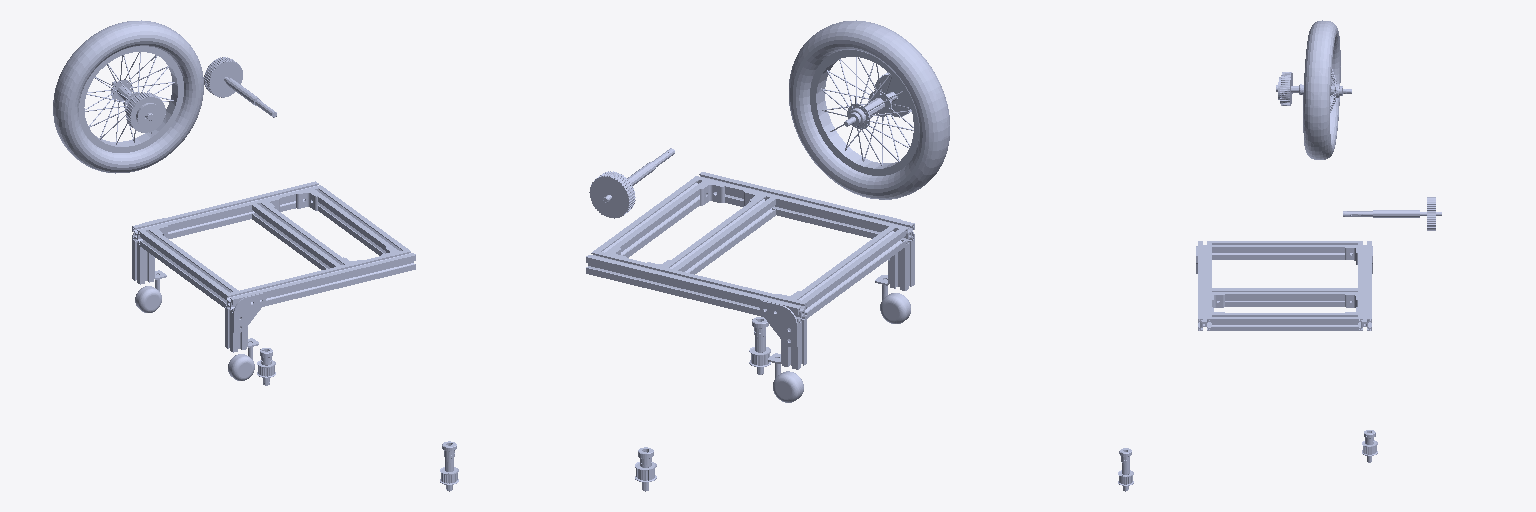
The robot description file, URDF, robot "ROS_Module_Assembly_v4":
<?xml version="1.0" encoding="utf-8"?>
<!-- This URDF was automatically created by SolidWorks to URDF Exporter! Originally created by [author] ([email redacted]) 
     Commit Version: 1.6.0-4-g7f85cfe  Build Version: 1.6.7995.38578
     For more information, please see http://wiki.ros.org/sw_urdf_exporter -->
<robot
  name="ROS_Module_Assembly_v4">
  <link
    name="base_link">
    <inertial>
      <origin
        xyz="-0.031724 -0.12886 0.039095"
        rpy="0 0 0" />
      <mass
        value="2.1961" />
      <inertia
        ixx="0.0063697"
        ixy="-3.3879E-05"
        ixz="-1.3091E-07"
        iyy="0.0035478"
        iyz="1.1651E-06"
        izz="0.009033" />
    </inertial>
    <visual>
      <origin
        xyz="0 0 0"
        rpy="0 0 0" />
      <geometry>
        <mesh
          filename="package://ROS_Module_Assembly_v4/meshes/base_link.STL" />
      </geometry>
      <material
        name="">
        <color
          rgba="0.79216 0.81961 0.93333 1" />
      </material>
    </visual>
    <collision>
      <origin
        xyz="0 0 0"
        rpy="0 0 0" />
      <geometry>
        <mesh
          filename="package://ROS_Module_Assembly_v4/meshes/base_link.STL" />
      </geometry>
    </collision>
  </link>
  <link
    name="input_transl_motor">
    <inertial>
      <origin
        xyz="-1.865E-05 0.047153 -6.6546E-05"
        rpy="0 0 0" />
      <mass
        value="0.032255" />
      <inertia
        ixx="1.5951E-05"
        ixy="1.8513E-09"
        ixz="3.575E-09"
        iyy="2.7304E-06"
        iyz="6.6055E-09"
        izz="1.5963E-05" />
    </inertial>
    <visual>
      <origin
        xyz="0 0 0"
        rpy="0 0 0" />
      <geometry>
        <mesh
          filename="package://ROS_Module_Assembly_v4/meshes/input_transl_motor.STL" />
      </geometry>
      <material
        name="">
        <color
          rgba="0.79216 0.81961 0.93333 1" />
      </material>
    </visual>
    <collision>
      <origin
        xyz="0 0 0"
        rpy="0 0 0" />
      <geometry>
        <mesh
          filename="package://ROS_Module_Assembly_v4/meshes/input_transl_motor.STL" />
      </geometry>
    </collision>
  </link>
  <joint
    name="base_to_input_transport"
    type="continuous">
    <origin
      xyz="-0.07615 -0.16897 0.008"
      rpy="-1.5708 0 -1.2874" />
    <parent
      link="base_link" />
    <child
      link="input_transl_motor" />
    <axis
      xyz="0 1 0" />
  </joint>
  <link
    name="vert_bevel_shaft_transl">
    <inertial>
      <origin
        xyz="1.2062E-06 2.1092E-05 -0.034965"
        rpy="0 0 0" />
      <mass
        value="0.11927" />
      <inertia
        ixx="0.00012322"
        ixy="6.9262E-10"
        ixz="-2.6667E-09"
        iyy="0.00012323"
        iyz="-4.6605E-08"
        izz="6.1731E-05" />
    </inertial>
    <visual>
      <origin
        xyz="0 0 0"
        rpy="0 0 0" />
      <geometry>
        <mesh
          filename="package://ROS_Module_Assembly_v4/meshes/vert_bevel_shaft_transl.STL" />
      </geometry>
      <material
        name="">
        <color
          rgba="0.79216 0.81961 0.93333 1" />
      </material>
    </visual>
    <collision>
      <origin
        xyz="0 0 0"
        rpy="0 0 0" />
      <geometry>
        <mesh
          filename="package://ROS_Module_Assembly_v4/meshes/vert_bevel_shaft_transl.STL" />
      </geometry>
    </collision>
  </link>
  <joint
    name="input_transl_to_vert_bevel"
    type="continuous">
    <origin
      xyz="-0.14094 0.008 0.12037"
      rpy="1.5708 -1.2874 0" />
    <parent
      link="input_transl_motor" />
    <child
      link="vert_bevel_shaft_transl" />
    <axis
      xyz="0 0 -1" />
  </joint>
  <link
    name="wheel">
    <inertial>
      <origin
        xyz="0.00445341511356639 -3.96137631562821E-06 -0.000161993357750634"
        rpy="0 0 0" />
      <mass
        value="2.07570429178156" />
      <inertia
        ixx="0.0322800434555573"
        ixy="-1.64374510444238E-09"
        ixz="-0.000559220222904143"
        iyy="0.016614986162682"
        iyz="-3.95902399334139E-09"
        izz="0.0166349899495676" />
    </inertial>
    <visual>
      <origin
        xyz="0 0 0"
        rpy="0 0 0" />
      <geometry>
        <mesh
          filename="package://ROS_Module_Assembly_v4/meshes/wheel.STL" />
      </geometry>
      <material
        name="">
        <color
          rgba="0.792156862745098 0.819607843137255 0.933333333333333 1" />
      </material>
    </visual>
    <collision>
      <origin
        xyz="0 0 0"
        rpy="0 0 0" />
      <geometry>
        <mesh
          filename="package://ROS_Module_Assembly_v4/meshes/wheel.STL" />
      </geometry>
    </collision>
  </link>
  <joint
    name="vert_bevel_to_wheel"
    type="continuous">
    <origin
      xyz="0 0 0.336"
      rpy="-1.5708 0 1.5437" />
    <parent
      link="vert_bevel_shaft_transl" />
    <child
      link="wheel" />
    <axis
      xyz="-0.99936 0 0.03567" />
  </joint>
  <link
    name="input_rot_motor">
    <inertial>
      <origin
        xyz="8.5778E-05 0.032009 -8.9767E-10"
        rpy="0 0 0" />
      <mass
        value="0.025091" />
      <inertia
        ixx="7.1988E-06"
        ixy="-1.3589E-09"
        ixz="-2.0976E-13"
        iyy="2.3424E-06"
        iyz="-2.9086E-13"
        izz="7.1717E-06" />
    </inertial>
    <visual>
      <origin
        xyz="0 0 0"
        rpy="0 0 0" />
      <geometry>
        <mesh
          filename="package://ROS_Module_Assembly_v4/meshes/input_rot_motor.STL" />
      </geometry>
      <material
        name="">
        <color
          rgba="0.79216 0.81961 0.93333 1" />
      </material>
    </visual>
    <collision>
      <origin
        xyz="0 0 0"
        rpy="0 0 0" />
      <geometry>
        <mesh
          filename="package://ROS_Module_Assembly_v4/meshes/input_rot_motor.STL" />
      </geometry>
    </collision>
  </link>
  <joint
    name="base_to_input_rot"
    type="continuous">
    <origin
      xyz="0.00425 -0.18427 0.009"
      rpy="-1.5708 0 0.52203" />
    <parent
      link="base_link" />
    <child
      link="input_rot_motor" />
    <axis
      xyz="0 -1 0" />
  </joint>
  <link
    name="fork">
    <inertial>
      <origin
        xyz="0.0011495 0.019822 0.17644"
        rpy="0 0 0" />
      <mass
        value="2.1939" />
      <inertia
        ixx="0.0090713"
        ixy="0.00015215"
        ixz="2.4121E-06"
        iyy="0.01148"
        iyz="-2.9545E-05"
        izz="0.0039097" />
    </inertial>
    <visual>
      <origin
        xyz="0 0 0"
        rpy="0 0 0" />
      <geometry>
        <mesh
          filename="package://ROS_Module_Assembly_v4/meshes/fork.STL" />
      </geometry>
      <material
        name="">
        <color
          rgba="0.79216 0.81961 0.93333 1" />
      </material>
    </visual>
    <collision>
      <origin
        xyz="0 0 0"
        rpy="0 0 0" />
      <geometry>
        <mesh
          filename="package://ROS_Module_Assembly_v4/meshes/fork.STL" />
      </geometry>
    </collision>
  </link>
  <joint
    name="input_transl_to_rot_fork"
    type="continuous">
    <origin
      xyz="0.088199 0.009 0.16184"
      rpy="1.5708 0.52203 0" />
    <parent
      link="input_rot_motor" />
    <child
      link="fork" />
    <axis
      xyz="0 0 1" />
  </joint>
</robot>

--- What the picture shows (computed from the rendered views, not written in the file) ---
Views: 3 orthographic renders of the robot side by side, from view 1: azimuth 30°, elevation 25°; view 2: azimuth 150°, elevation 25°; view 3: azimuth 270°, elevation 25°.
Robot: ROS_Module_Assembly_v4 — 6 links, 5 joints (5 continuous); root link base_link; default pose: every joint at zero.
Links seen in each view (by area): view 1: base_link, wheel, vert_bevel_shaft_transl, input_transl_motor; view 2: base_link, wheel, vert_bevel_shaft_transl, input_transl_motor, input_rot_motor; view 3: base_link, wheel, vert_bevel_shaft_transl.
Link boxes in pixels (x1,y1,x2,y2): base_link: (132,181,415,380); wheel: (53,20,203,173); vert_bevel_shaft_transl: (204,57,276,117); input_transl_motor: (440,441,458,491); base_link: (586,172,914,402); wheel: (789,20,949,199); vert_bevel_shaft_transl: (589,148,674,218); input_transl_motor: (749,317,770,374); input_rot_motor: (635,447,656,491); base_link: (1196,241,1372,330); wheel: (1276,20,1351,159); vert_bevel_shaft_transl: (1343,197,1441,230).
Size in the robot's own frame: 0.6235 by 0.7086 by 0.9045 metres.
5 mesh visuals loaded from 6 distinct referenced files (5 binary STL); not drawn: 1 (reference not matched to a file when rendering).